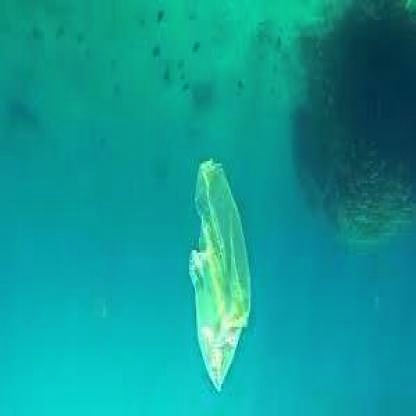pbag: (179, 151, 256, 399)
